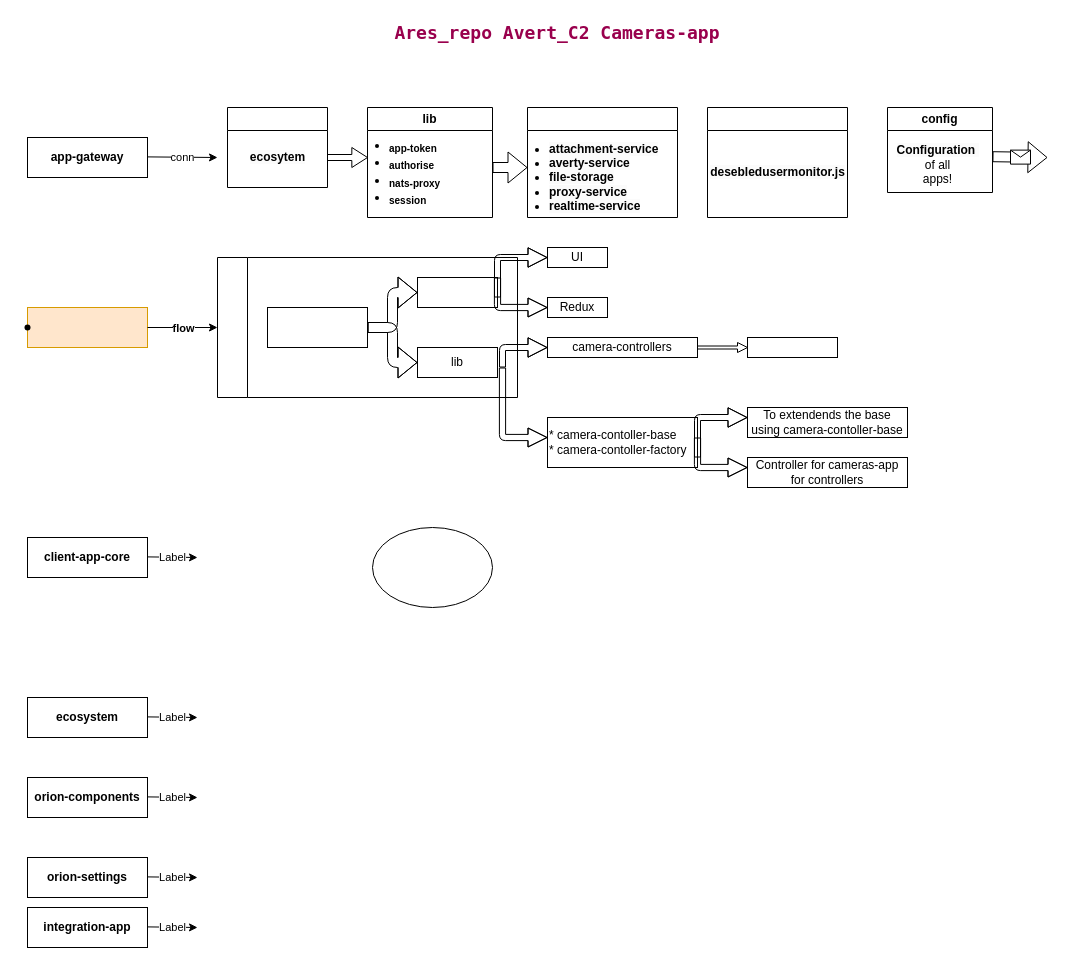
The diagram is 1065 pixels wide and 965 high, and some of its shapes have lost their labels. Each missing label, with the box of its shape:
API: (266, 306, 368, 348)
cameras-app: (26, 306, 148, 348)
middleware: (526, 106, 678, 218)
nats-proxy: (226, 106, 328, 188)
process: (706, 106, 848, 218)
src: (416, 276, 498, 308)
udc-controller: (746, 336, 838, 358)
UI & Rest Api's: (216, 256, 518, 398)
